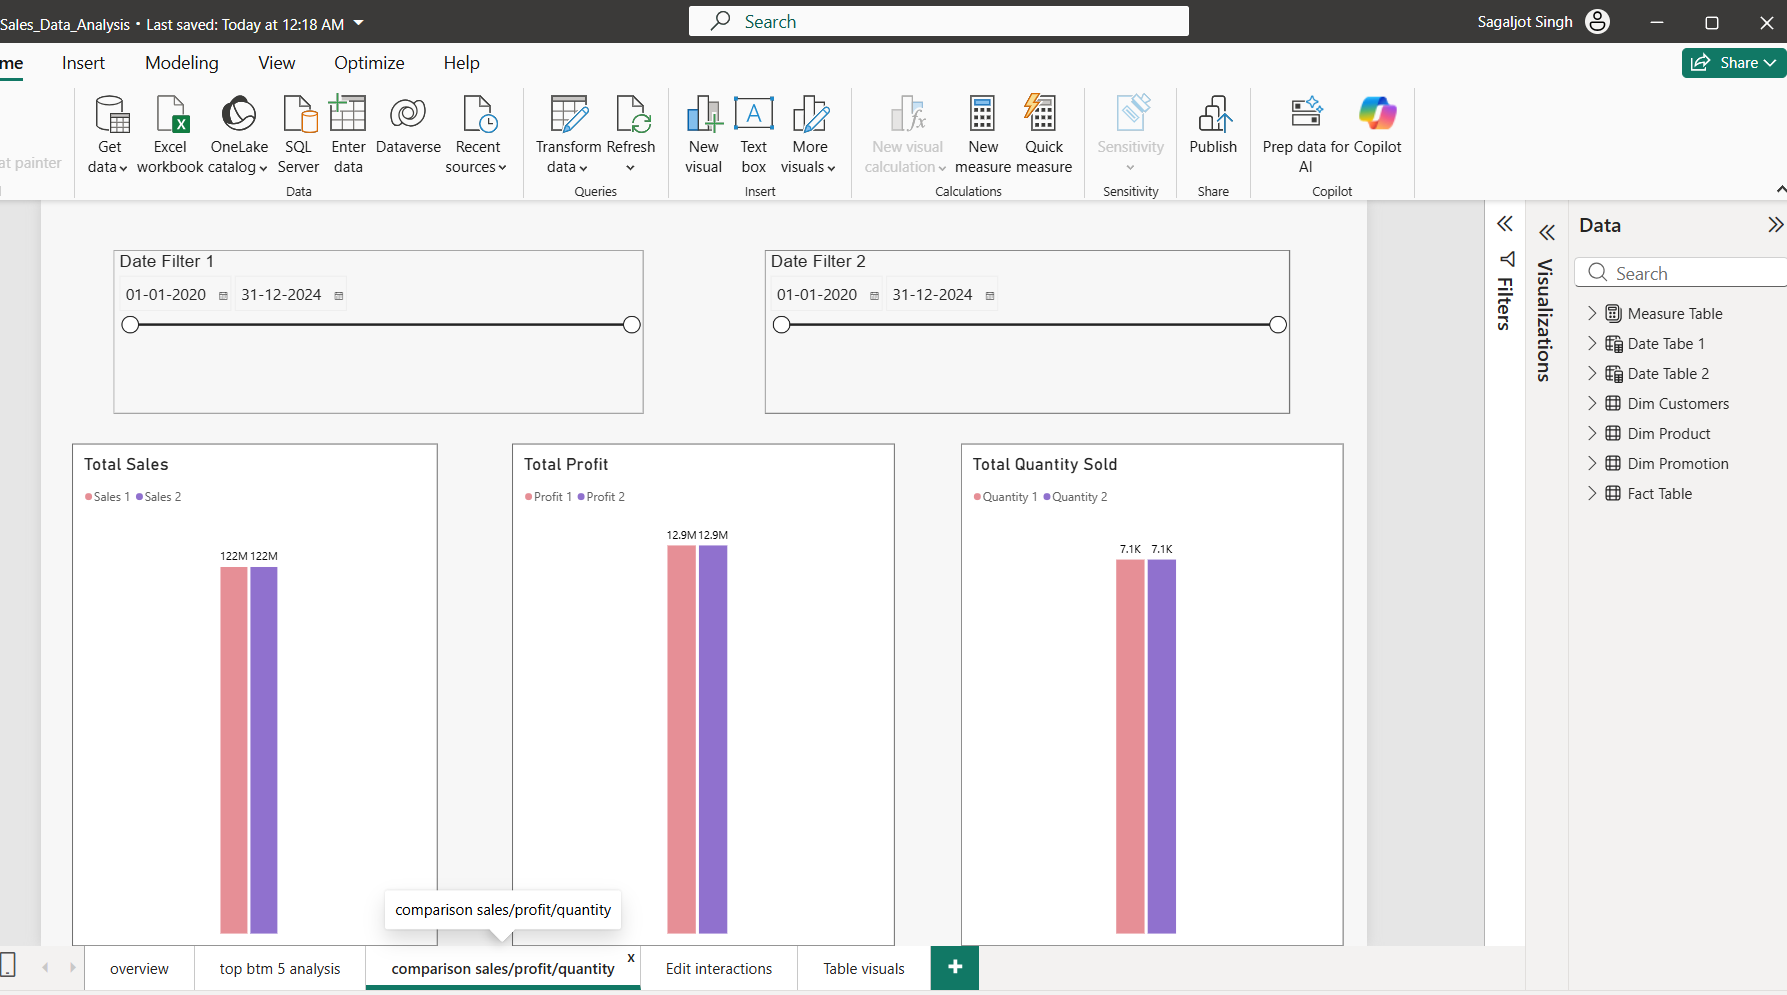

What the dashboard file says about the page in this screenshot:
{"tool":"powerbi","page":{"name":"comparison sales/profit/quantity","canvas":[1920,1080],"ordinal":2},"visuals":[{"type":"slicer","fields":{"Values":["Date Tabe 1.Date"]},"box":[105,72.4,767.3,237.1],"z":0},{"type":"slicer","fields":{"Values":["Date Table 2.Date"]},"box":[1047.8,72.4,760.1,237.1],"z":1000},{"type":"clusteredColumnChart","title":"Total Sales","fields":{"Y":["Sum(Fact Table.Net Sales)","Date Tabe 1.Sum Of Net Sales"]},"box":[45.2,352.9,528.4,727.5],"z":2000},{"type":"clusteredColumnChart","title":"Total Profit","fields":{"Y":["Sum(Fact Table.Profit)","Measure Table.Total Profit"]},"box":[682.2,352.9,553.8,727.5],"z":3000},{"type":"clusteredColumnChart","title":"Total Quantity Sold","fields":{"Y":["Sum(Fact Table.Units Sold)","Measure Table.Quantity Sold"]},"box":[1331.9,352.9,553.8,727.5],"z":4000}]}

Visuals, with their boxes on the page's 1920x1080 design canvas (x1, y1, x2, y2). These are canvas units, not pixel positions in the 1787x995 screenshot, which may show the page scaled, cropped or inside an application window:
slicer - Date Tabe 1.Date: (105,72,872,310)
slicer - Date Table 2.Date: (1048,72,1808,310)
"Total Sales" clusteredColumnChart: (45,353,574,1080)
"Total Profit" clusteredColumnChart: (682,353,1236,1080)
"Total Quantity Sold" clusteredColumnChart: (1332,353,1886,1080)
